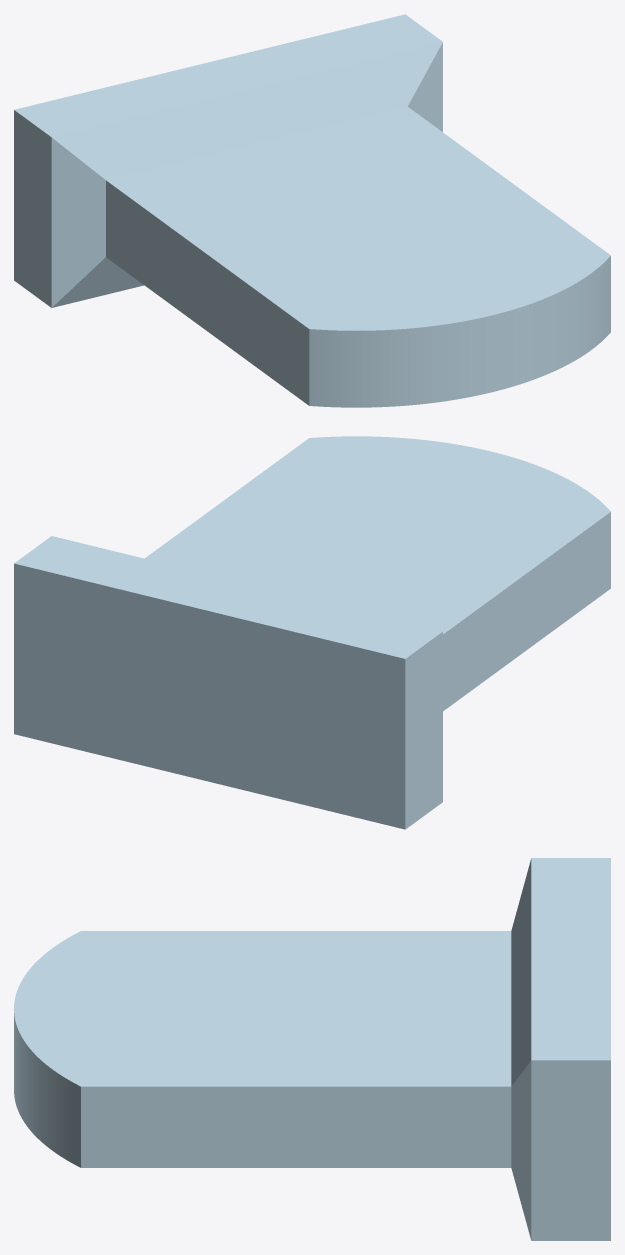
The picture shows the model from 3 angles, top to bottom: view 1: azimuth 30°, elevation 25°; view 2: azimuth 150°, elevation 25°; view 3: azimuth 270°, elevation 25°; orthographic projection. The views are drawn at different scales.
Parts seen in each view (by area): view 1: PA-465-F_LOD0; view 2: PA-465-F_LOD0; view 3: PA-465-F_LOD0.
Boxes of the visible parts, box(x1,y1,x2,y2) form: PA-465-F_LOD0: box(14, 14, 610, 407); PA-465-F_LOD0: box(14, 436, 610, 829); PA-465-F_LOD0: box(14, 858, 610, 1240).
Size of what is drawn, in the model's own units: 60.96 by 25.4 by 76.1.
